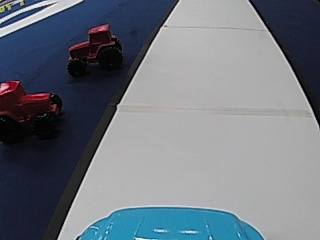tractor: (0, 77, 61, 142), (66, 23, 123, 77)
